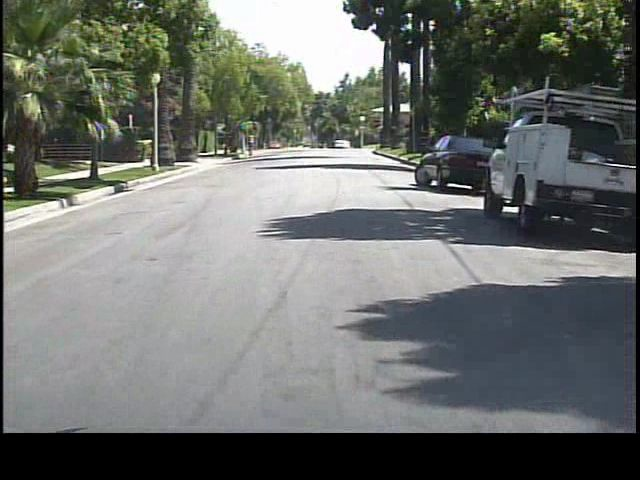person: (246, 129, 259, 158)
